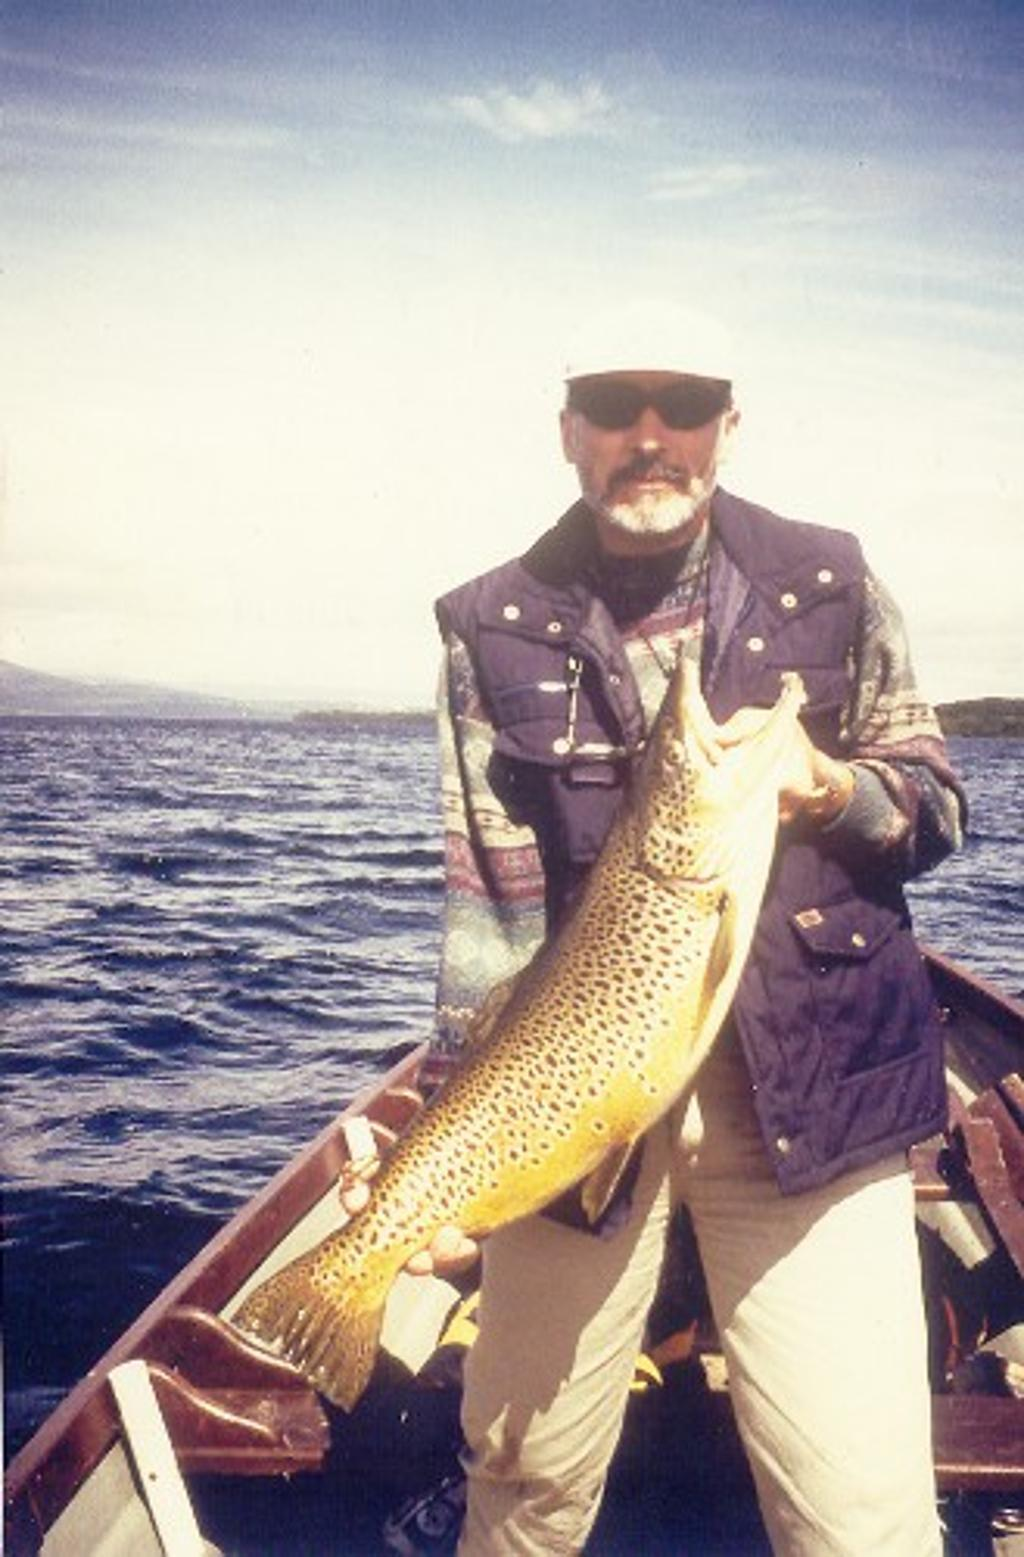face: (572, 338, 730, 532)
